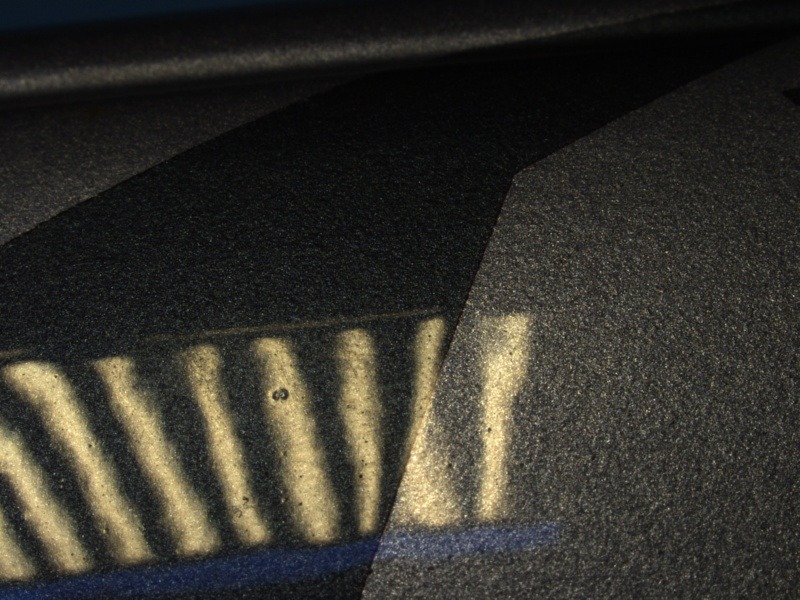bad: (260, 375, 297, 413)
